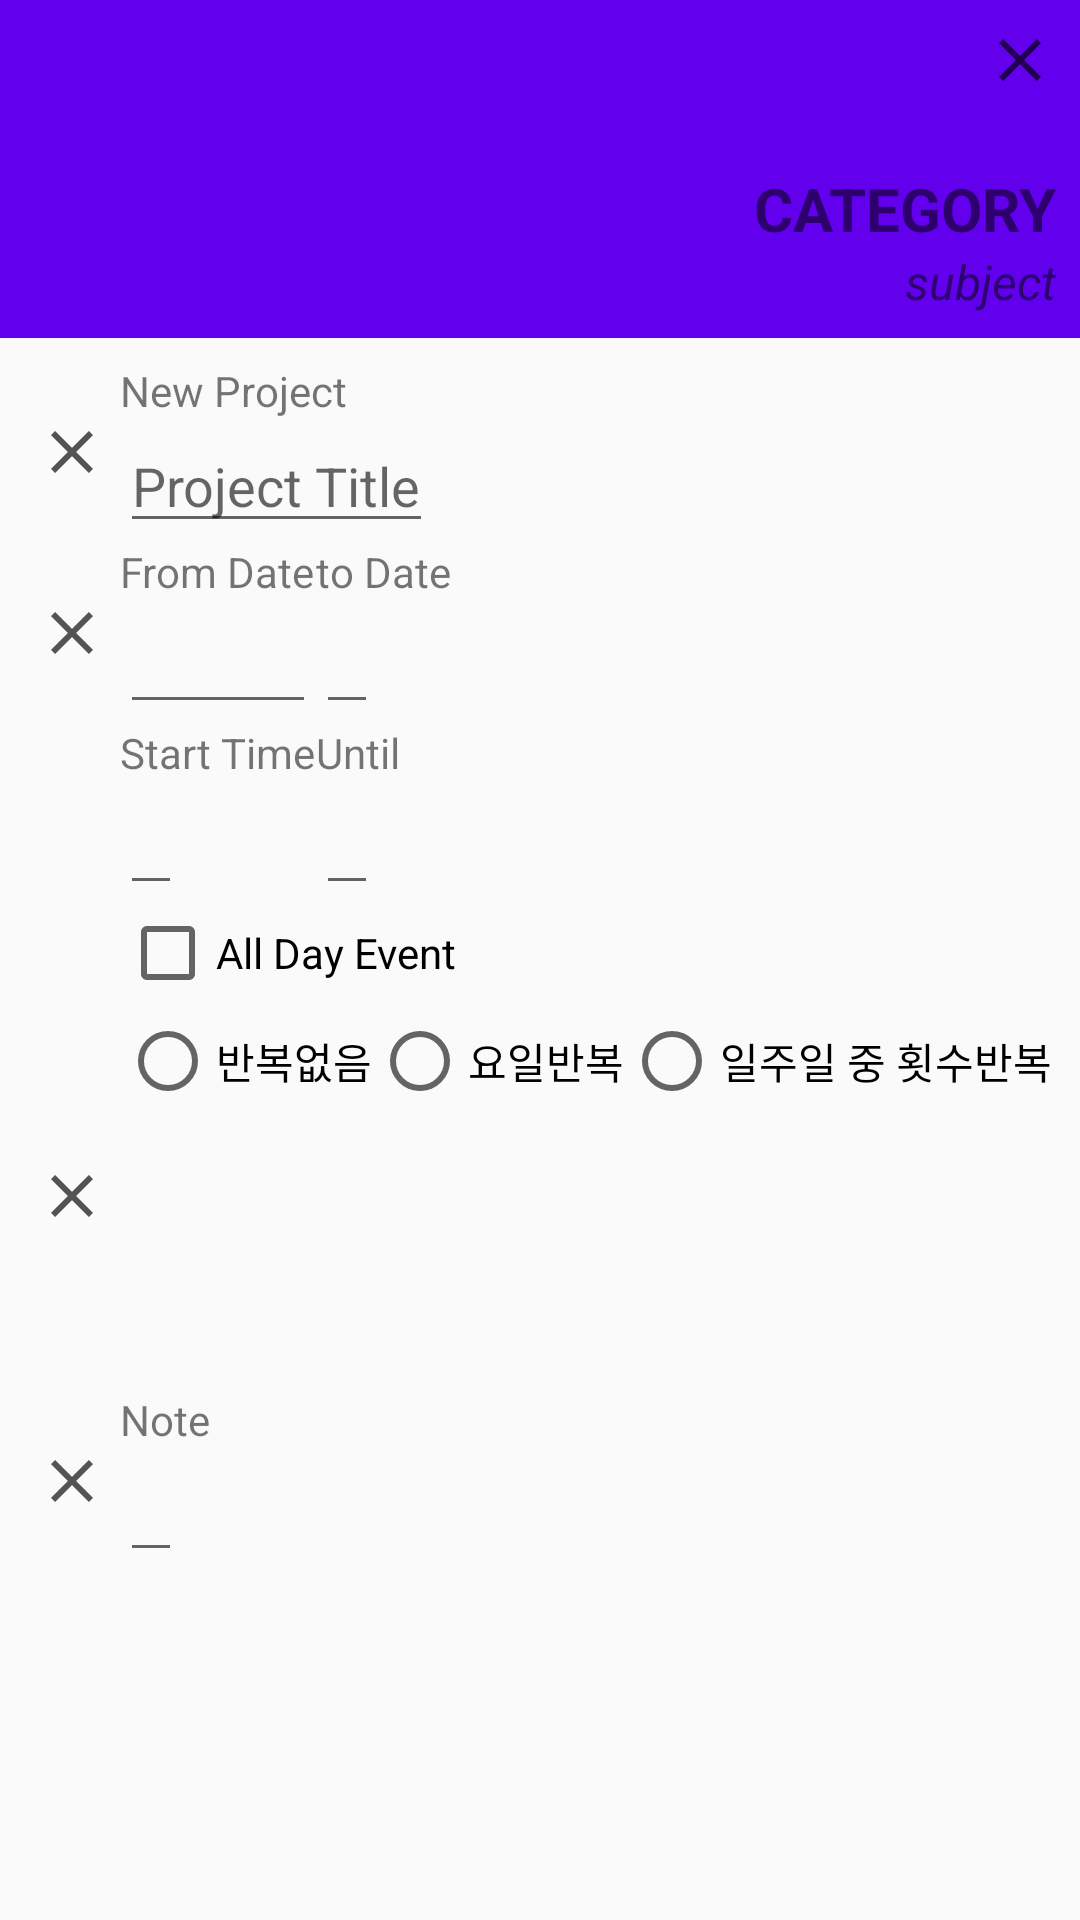

Point at icon controls on the screen. Image size 1080w x 1920h, points as (x=x, y=y).
clear: (x=1020, y=60), (x=72, y=452), (x=72, y=633), (x=72, y=1196), (x=72, y=1481)
